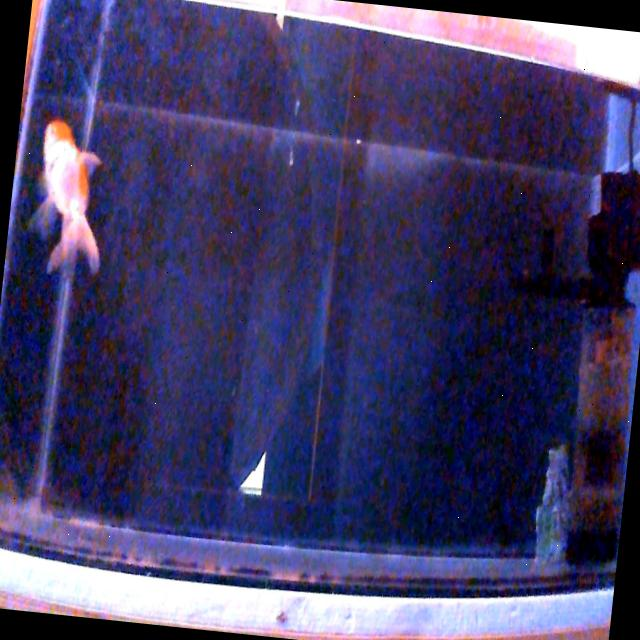fish: (25, 120, 115, 280)
